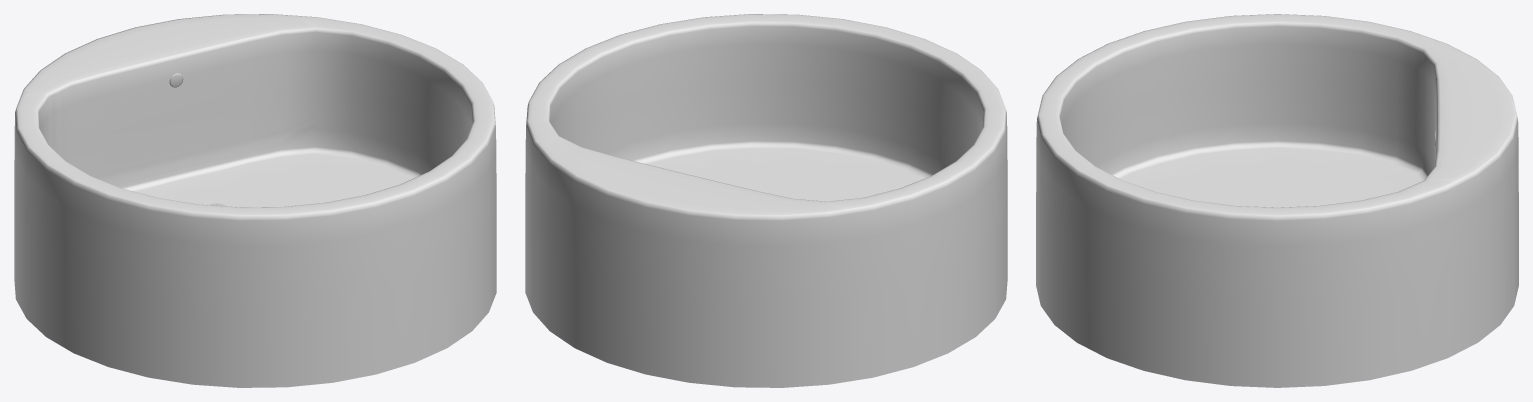
Rendered from BathTub07.glb.
3 views of the same model, side by side, from view 1: azimuth 30°, elevation 25°; view 2: azimuth 150°, elevation 25°; view 3: azimuth 270°, elevation 25° (orthographic).
Parts seen in each view (by area): view 1: BathTub07_model; view 2: BathTub07_model; view 3: BathTub07_model.
Part boxes in pixels (left/top/right/bottom): BathTub07_model: left=14, top=14, right=496, bottom=387; BathTub07_model: left=525, top=14, right=1007, bottom=387; BathTub07_model: left=1036, top=14, right=1518, bottom=387.
Size of the model in its own units: 2.78 by 1.09 by 2.78.
Materials: 1 (1 with a texture image).
